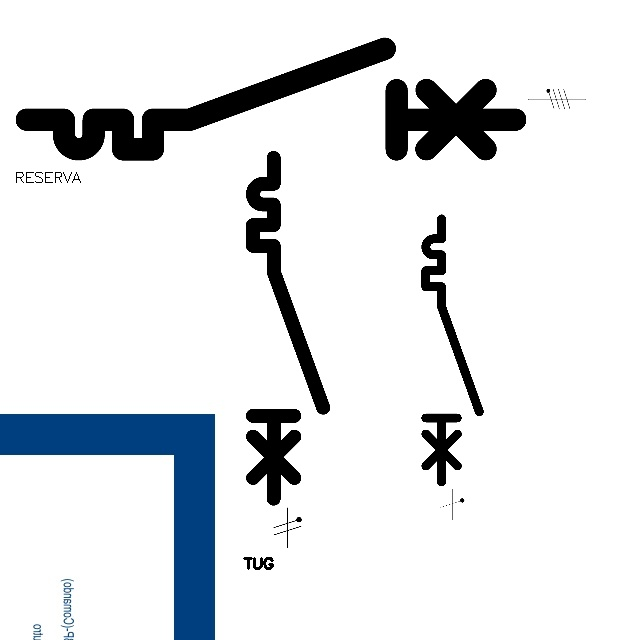interruptor_termomagnetico: (14, 36, 528, 162), (244, 149, 331, 507), (419, 212, 486, 488)
